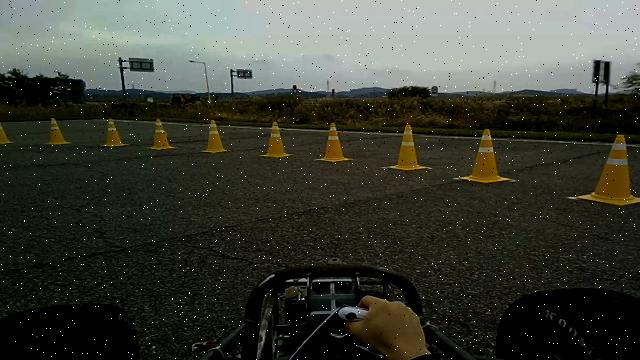yellow cone: (569, 133, 640, 206), (453, 128, 516, 184), (386, 124, 432, 172), (313, 121, 355, 162), (259, 121, 293, 158), (200, 119, 231, 153), (146, 118, 177, 150), (99, 118, 129, 148), (42, 117, 71, 145), (0, 117, 13, 144)
